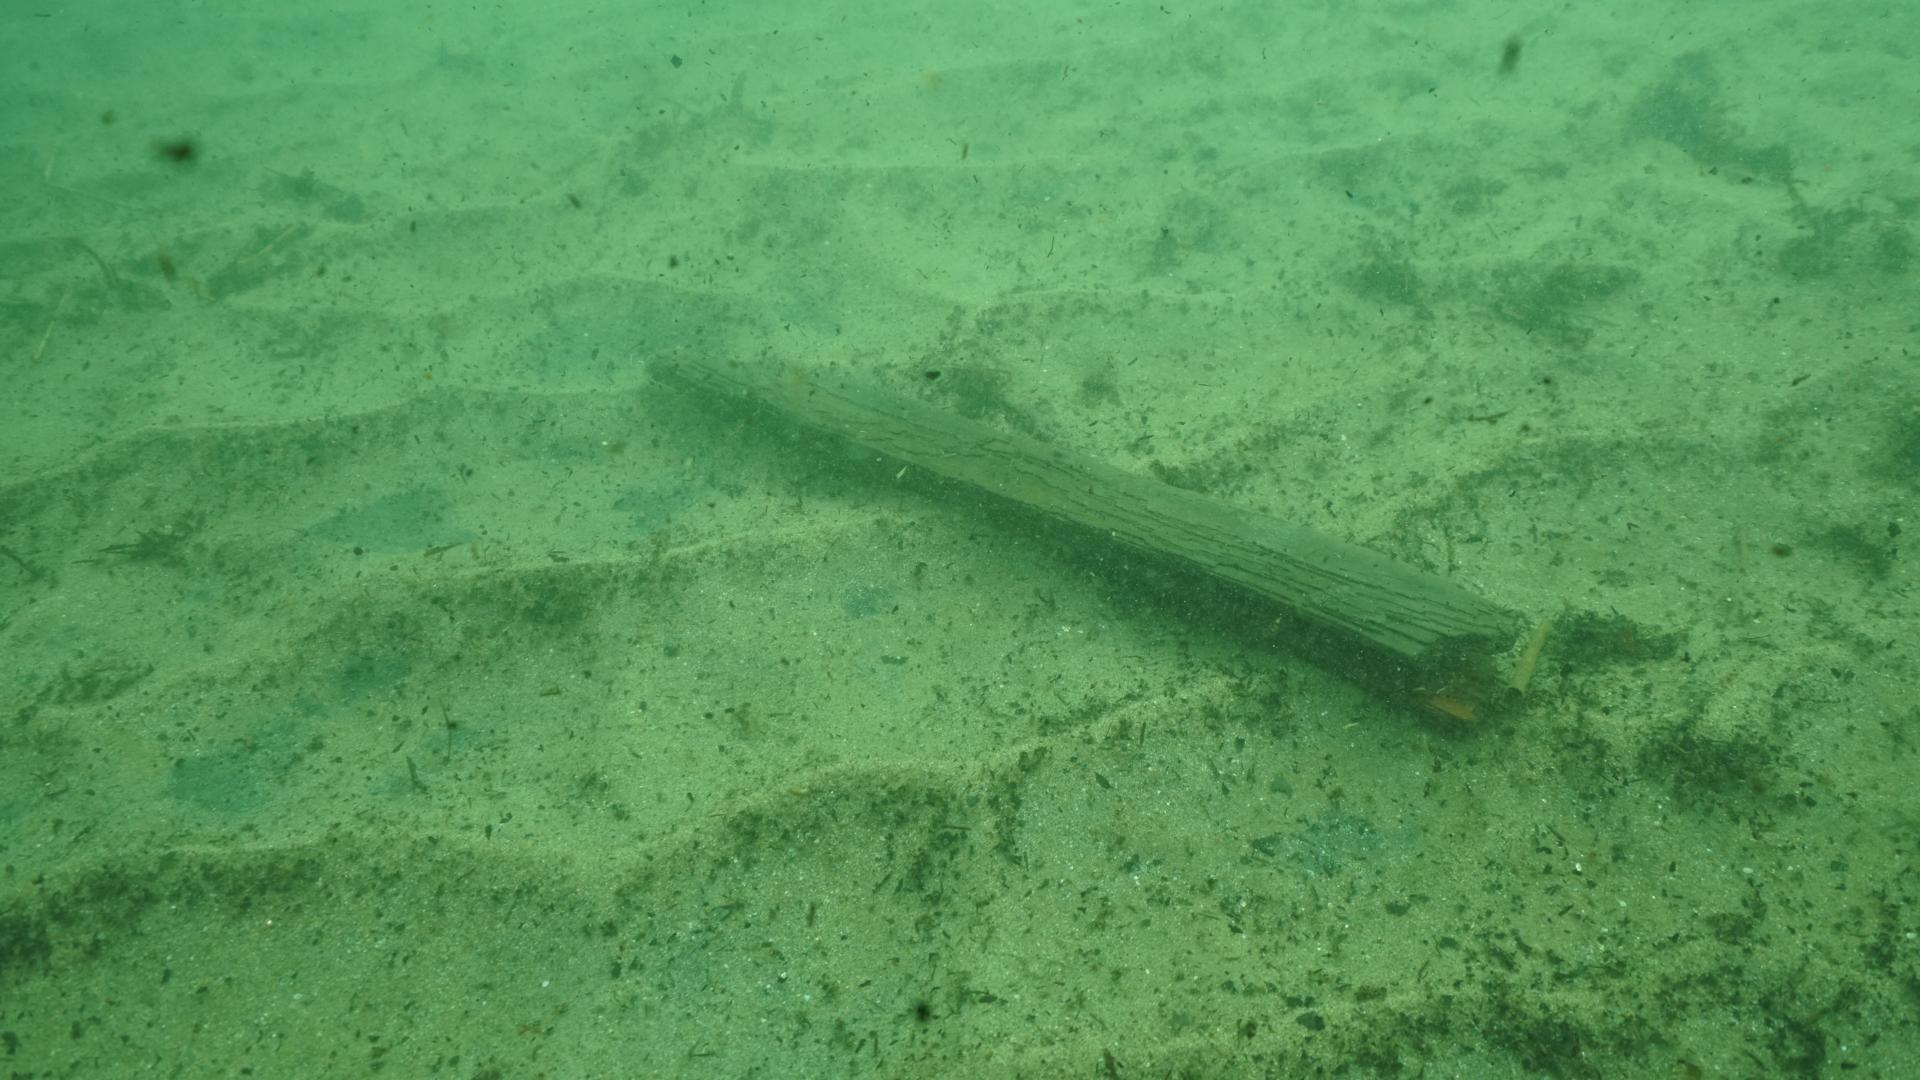wood: (642, 349, 1542, 757)
